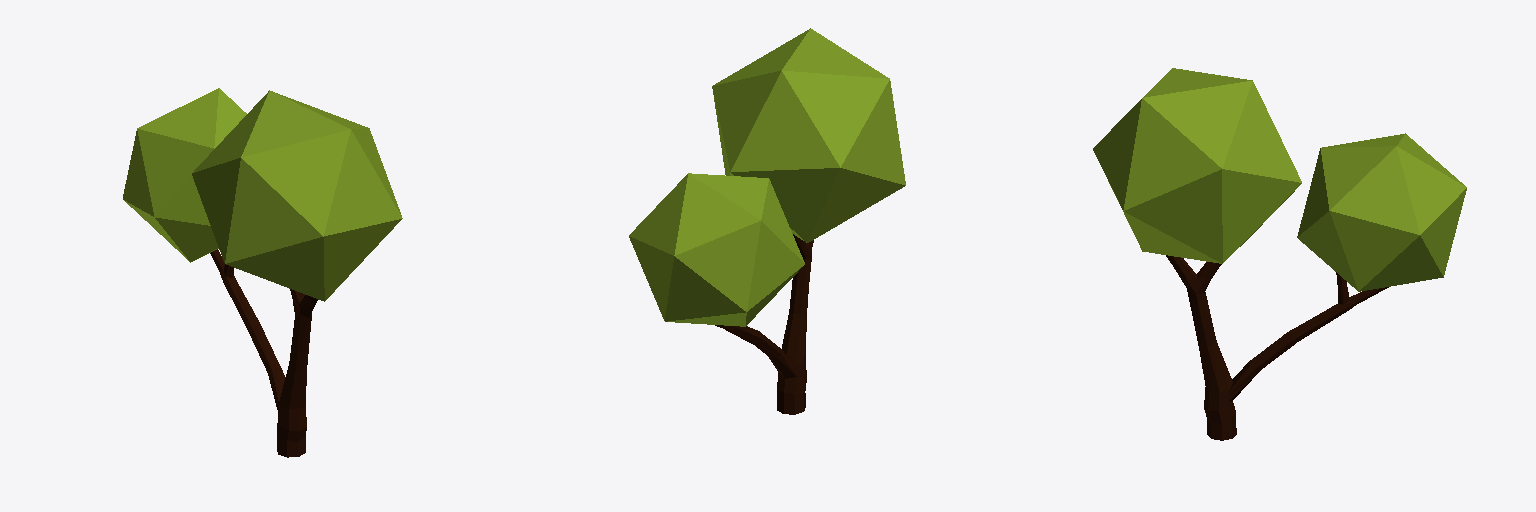
Rendered from Tree3.obj.
The picture shows the model from 3 angles: view 1: azimuth 30°, elevation 25°; view 2: azimuth 150°, elevation 25°; view 3: azimuth 270°, elevation 25°; orthographic projection.
Visible parts, largest first — view 1: Tree3_Icosphere.008; view 2: Tree3_Icosphere.008; view 3: Tree3_Icosphere.008.
Boxes of the visible parts, <box> form: Tree3_Icosphere.008: <box>123,88,402,457</box>; Tree3_Icosphere.008: <box>629,28,905,414</box>; Tree3_Icosphere.008: <box>1093,68,1466,440</box>.
Bounding box in the file's own units: 2.06 × 4.08 × 3.95.